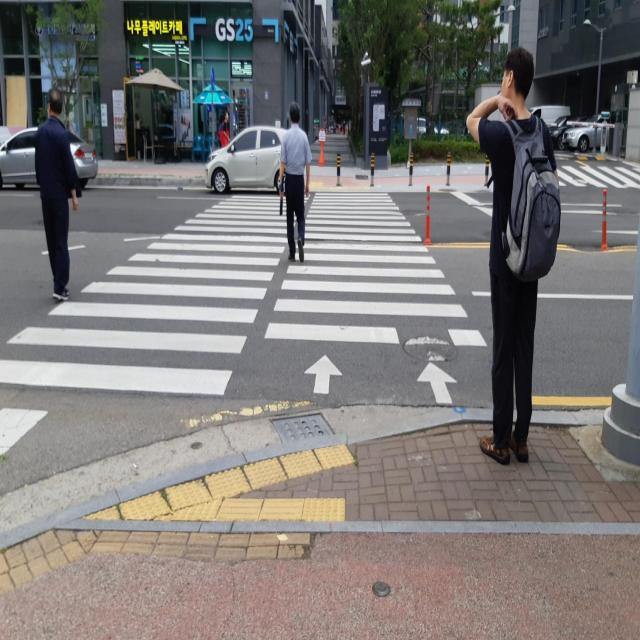횡단보도: (0, 189, 488, 460), (560, 164, 639, 188)
